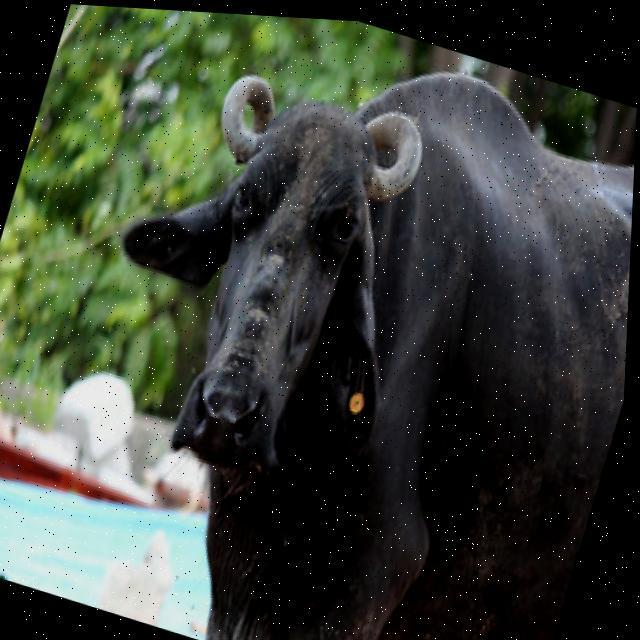Buffalo: (14, 2, 640, 640)
